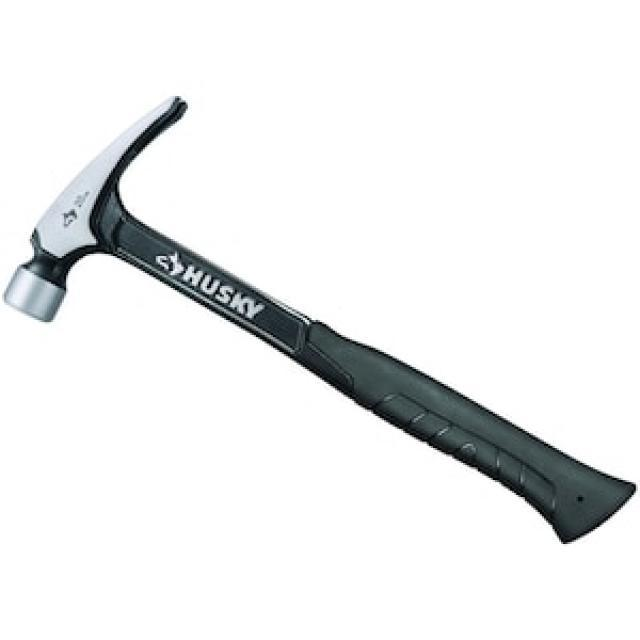hammer: (0, 84, 640, 552)
